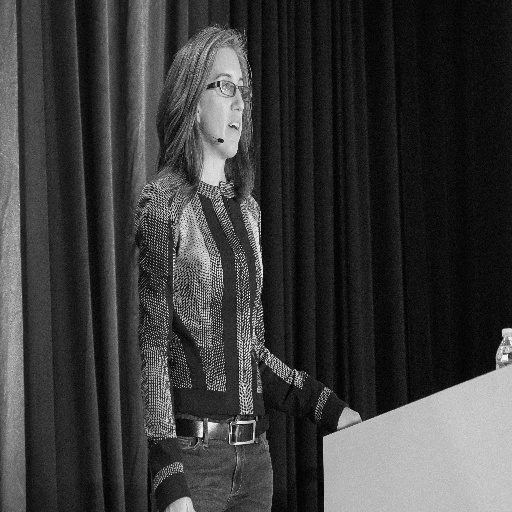hand: (336, 405, 362, 429), (164, 495, 195, 511)
